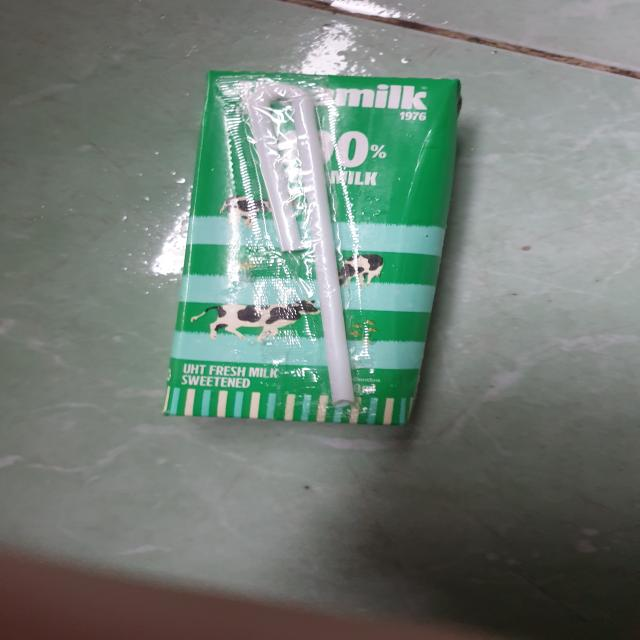Vina: (155, 66, 468, 433)
